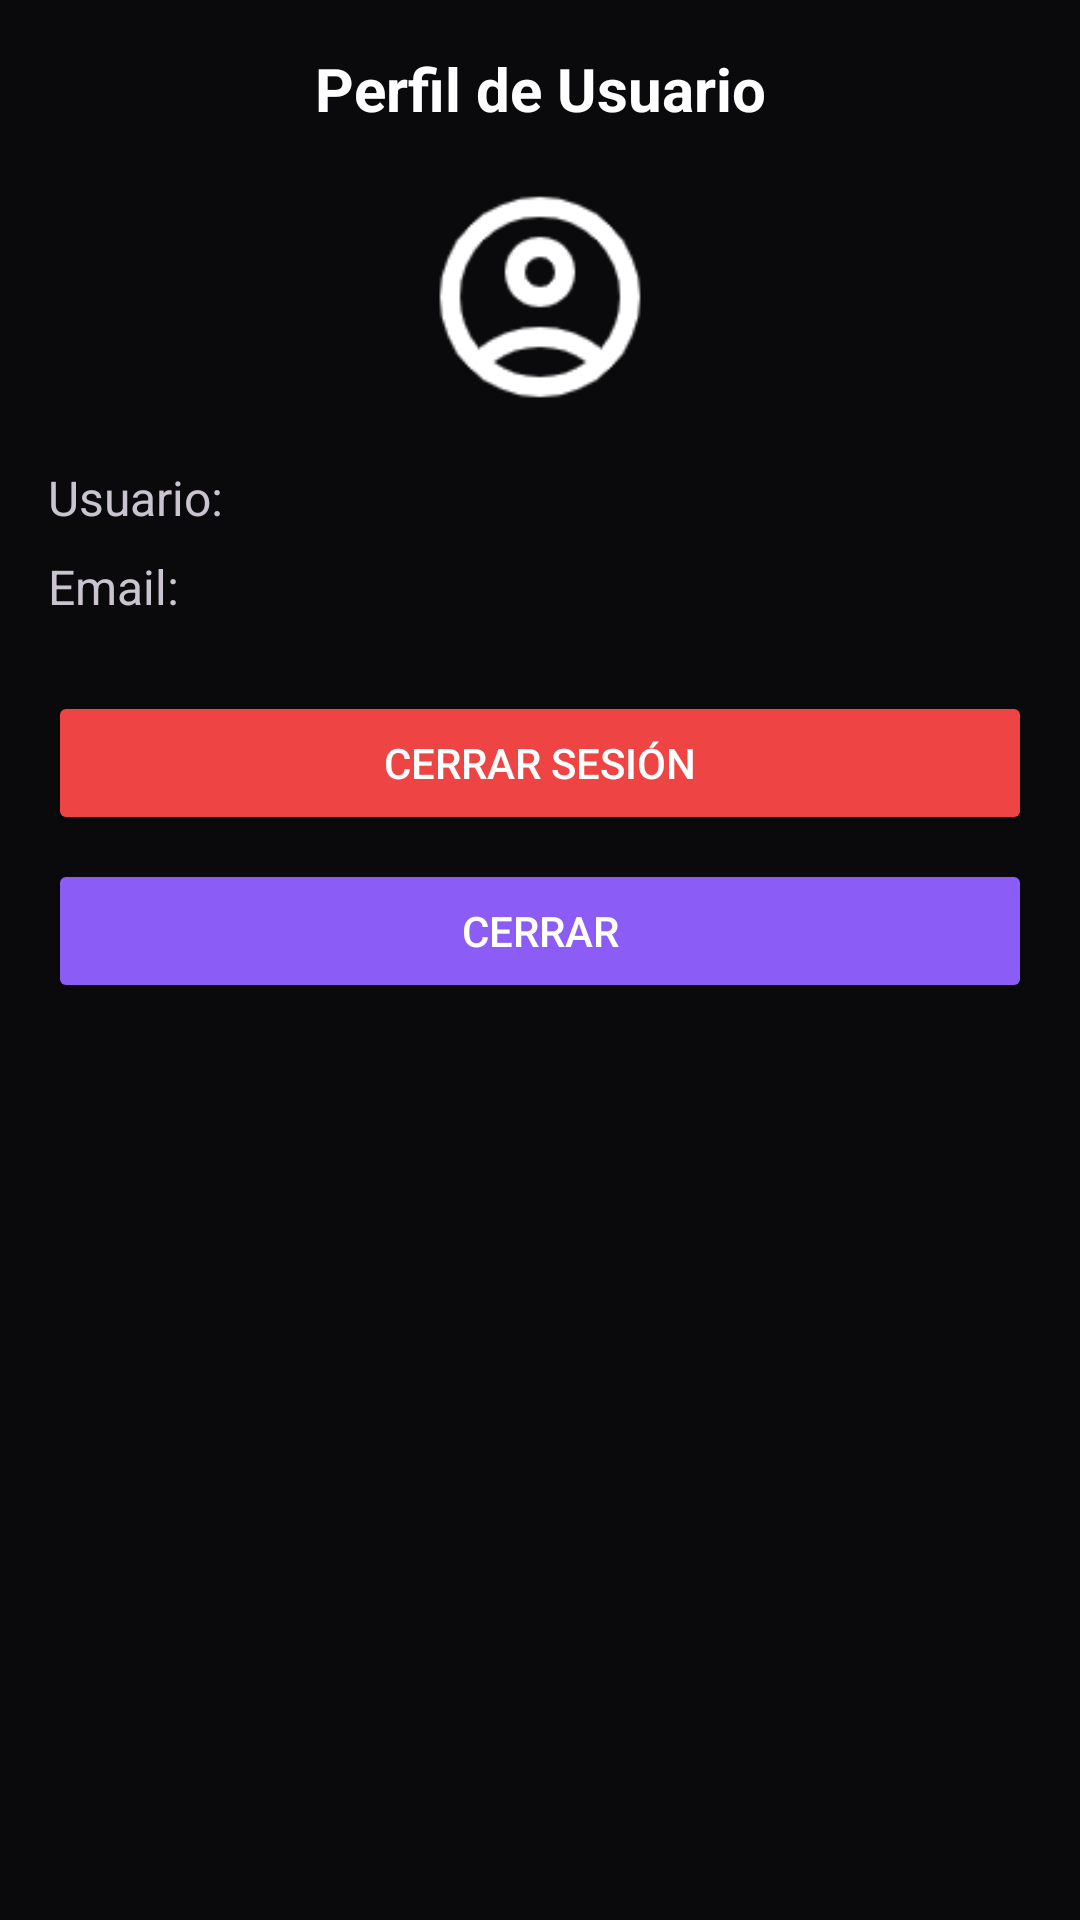

Where icons sit on this 1080w x 1920h app screen, as (x1, y1, x2, y2):
user: (439, 196, 641, 398)
